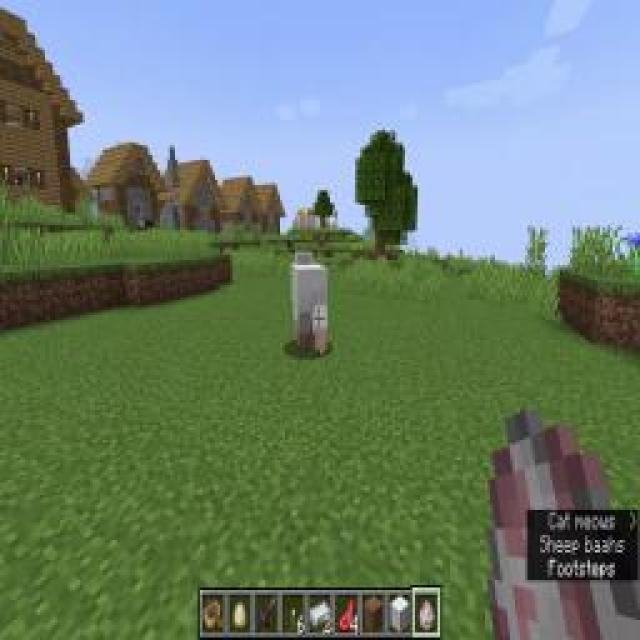Sheep: (289, 245, 331, 363)
